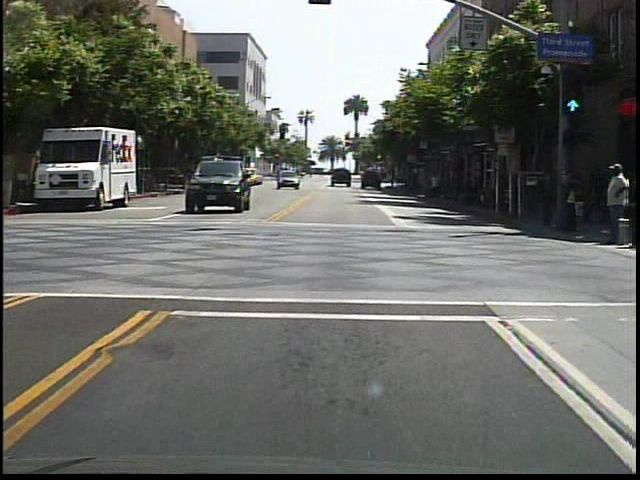person: (599, 163, 627, 246), (536, 160, 558, 233)
